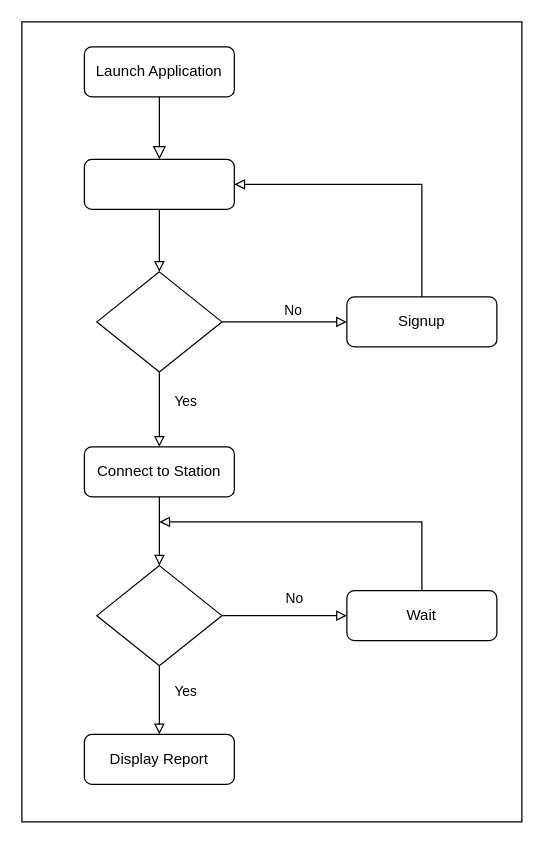
Some shapes in this 544 by 844 pixel diagram are drawn without their labels. Each missing label, with the centre of its shape:
"Existed User" goes at (x=159, y=321).
"Receive Notification" goes at (x=159, y=615).
"User Login" goes at (x=158, y=183).
